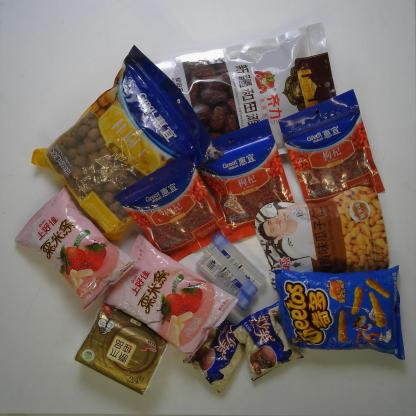Dessert: (230, 302, 304, 383), (181, 316, 248, 393)
Dried Food: (29, 43, 215, 243), (151, 22, 341, 143)
Dried Fruit: (252, 185, 392, 280), (276, 85, 385, 207), (192, 117, 296, 243), (113, 153, 232, 261)
Puffed Food: (105, 234, 240, 364), (15, 183, 138, 310), (271, 266, 408, 363)
Stationery: (202, 242, 259, 299), (196, 254, 253, 310), (210, 231, 268, 286)
Tissue: (74, 304, 169, 396)
